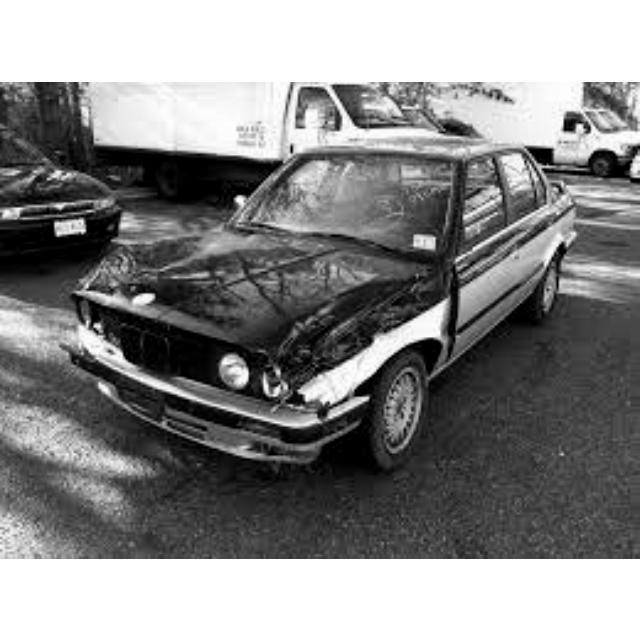fender-dent: (289, 293, 436, 374)
